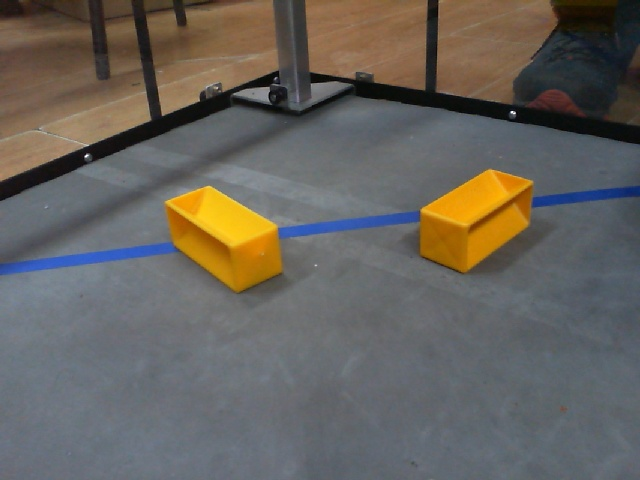YellowSample: (165, 180, 287, 297), (415, 167, 539, 273)
